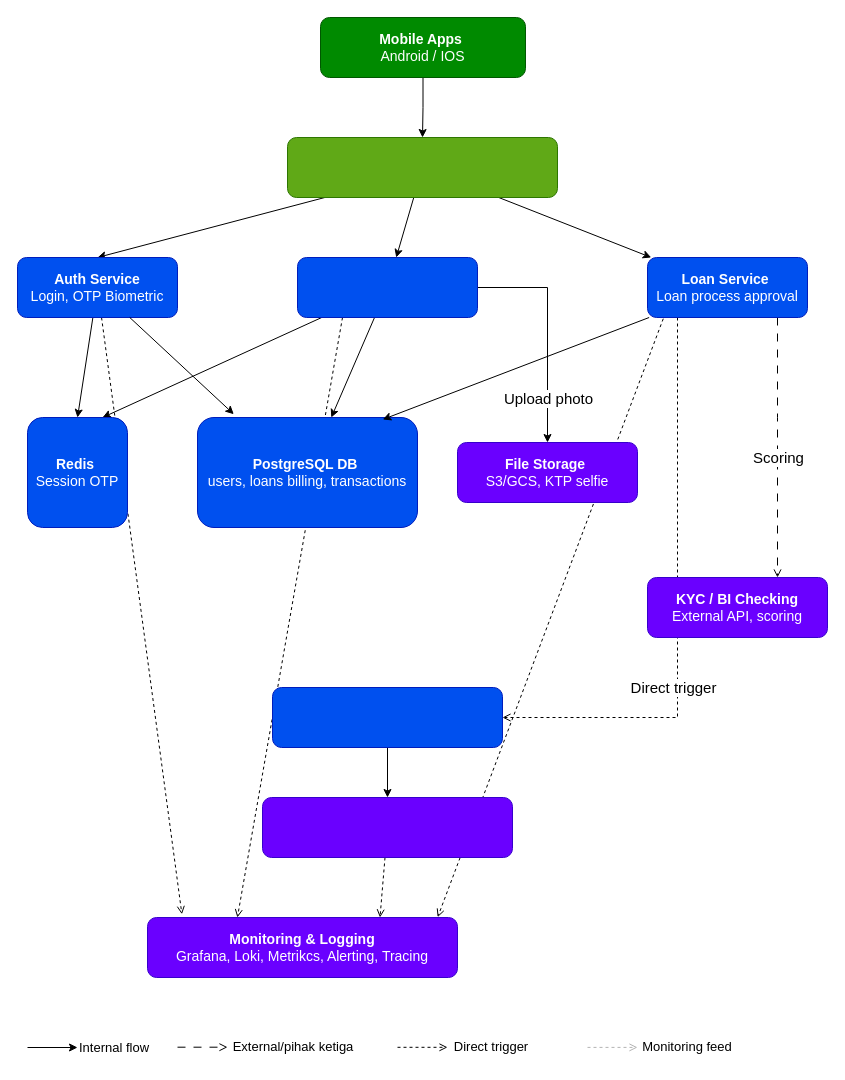
This 845x1080 diagram has some shape labels left out. Here are the shapes that lost their labels. From the top down, the centre of each, then its label:
the point at 422,167: API Gateway Auth, JWT, Routing, Rate limit, SSL
the point at 387,287: User Service Profile, KTP Registration
the point at 387,717: Notification Service Email, SMS, Push notification
the point at 387,827: Message Queue Async notifcatio, retry
